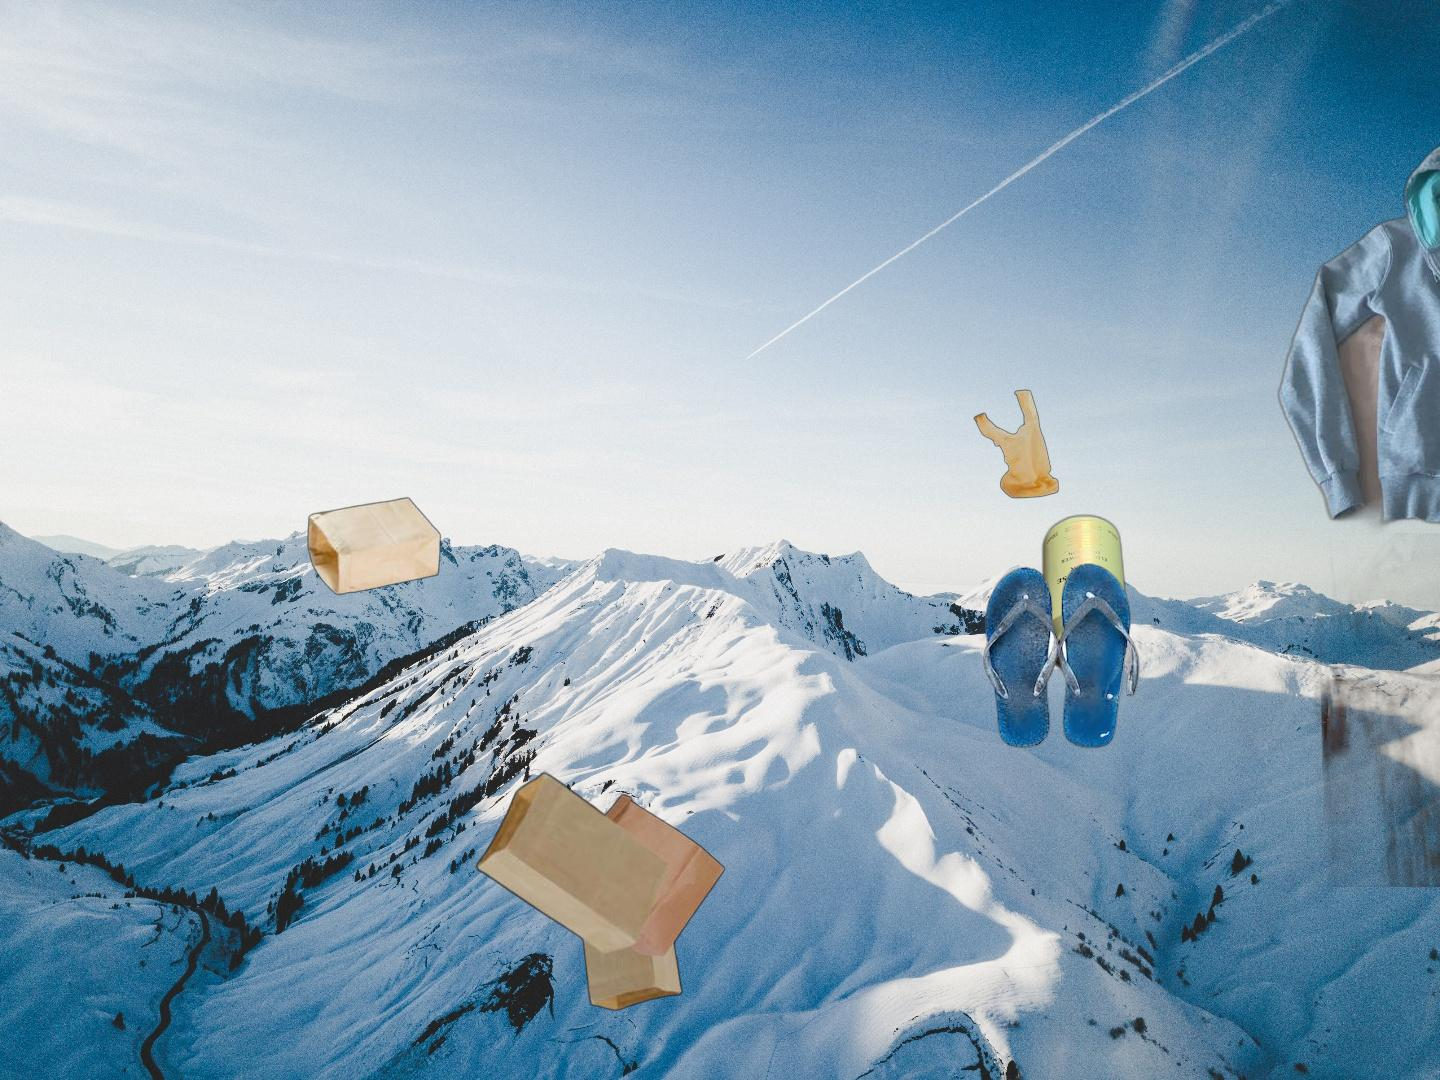clothes: (1272, 135, 1440, 535)
metal-cans: (1037, 511, 1133, 680)
paper-bag: (473, 770, 726, 1012), (305, 496, 444, 598)
plastic-bag: (973, 387, 1061, 499)
shoes: (981, 562, 1142, 751)
trashbox-cardboard: (1242, 533, 1440, 887)
